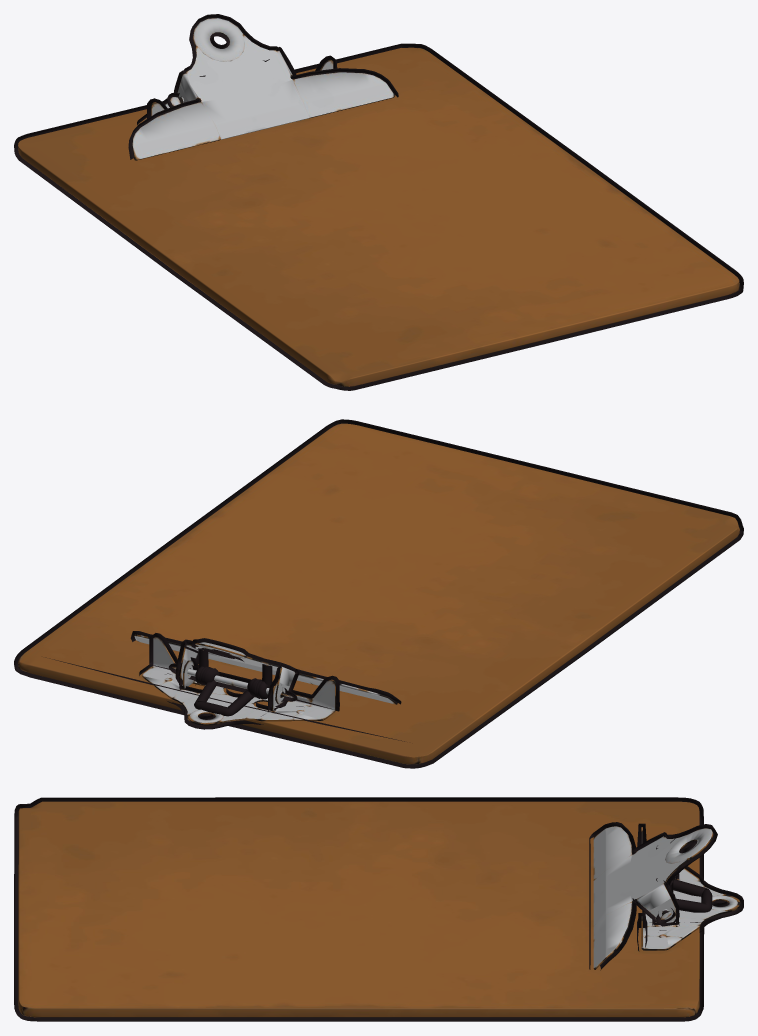
File: SM_Int_Clipboard.fbx
3 renders of one model, top to bottom at view 1: azimuth 30°, elevation 25°; view 2: azimuth 150°, elevation 25°; view 3: azimuth 270°, elevation 25°, orthographic. The views are drawn at different scales.
Parts seen in each view (by area): view 1: SM_Int_Clipboard; view 2: SM_Int_Clipboard; view 3: SM_Int_Clipboard.
Part boxes in pixels (x1,y1,x2,y2): SM_Int_Clipboard: (14, 14, 743, 390); SM_Int_Clipboard: (14, 419, 743, 768); SM_Int_Clipboard: (14, 797, 743, 1021).
Size of the model in its own units: 0.2326 by 0.0459 by 0.34.
